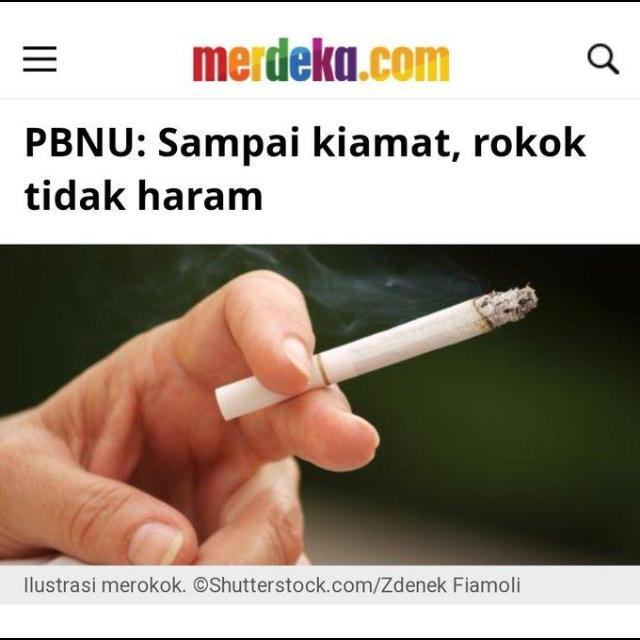rokok: (212, 282, 542, 424)
